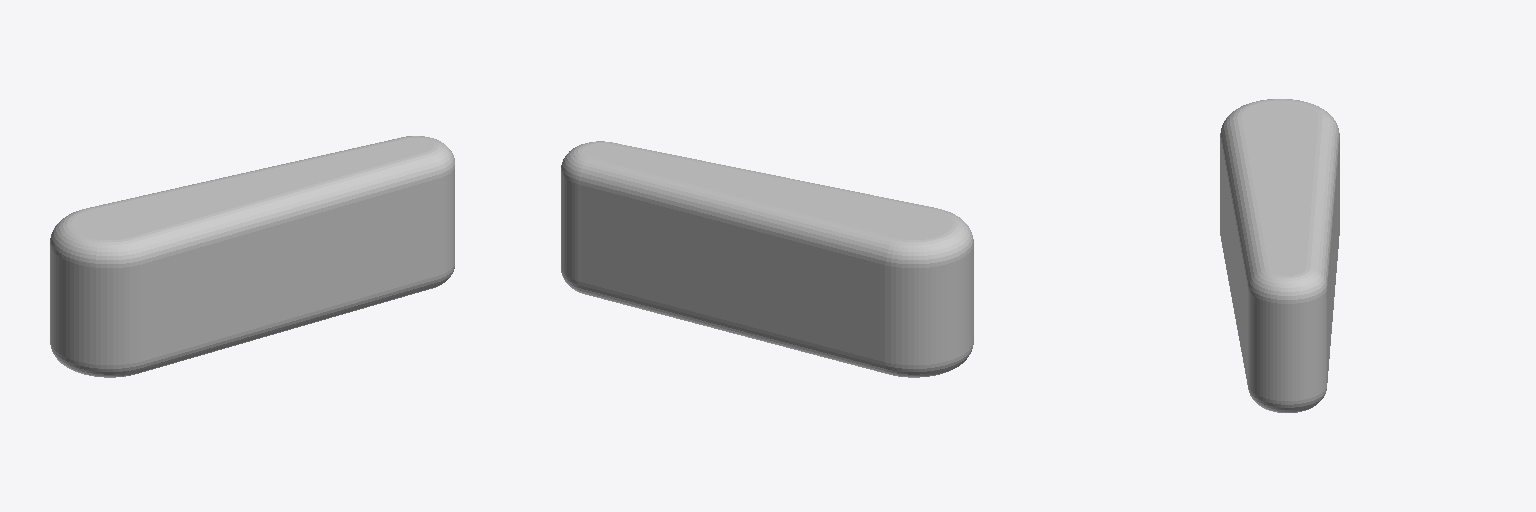
The model's file is paddle.obj.
3 views of the same model, side by side, from view 1: azimuth 30°, elevation 25°; view 2: azimuth 150°, elevation 25°; view 3: azimuth 270°, elevation 25° (orthographic).
Parts seen in each view (by area): view 1: PaddleLeft.005_Cylinder.051; view 2: PaddleLeft.005_Cylinder.051; view 3: PaddleLeft.005_Cylinder.051.
Boxes of the visible parts, box(x1,y1,x2,y2) form: PaddleLeft.005_Cylinder.051: box(50, 136, 454, 377); PaddleLeft.005_Cylinder.051: box(561, 141, 973, 377); PaddleLeft.005_Cylinder.051: box(1220, 99, 1339, 412).
Bounding box in the file's own units: 3.06 × 1 × 0.7998.